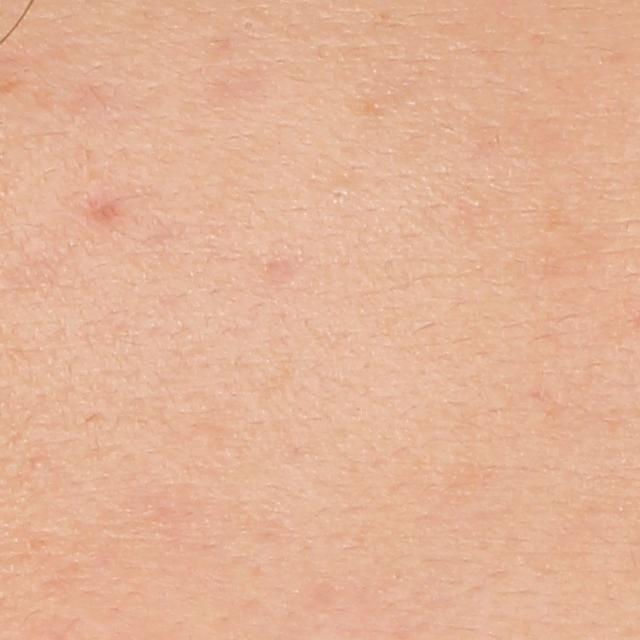comedo: (323, 183, 350, 210), (241, 16, 256, 35)
